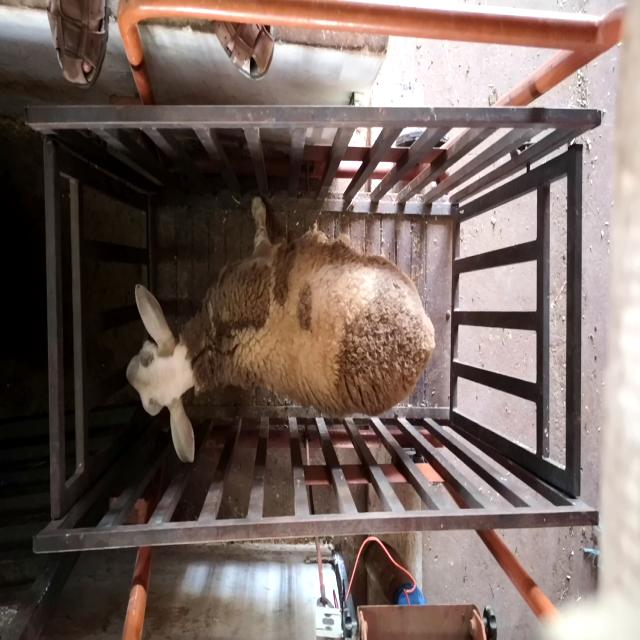sheep: (125, 233, 435, 464)
